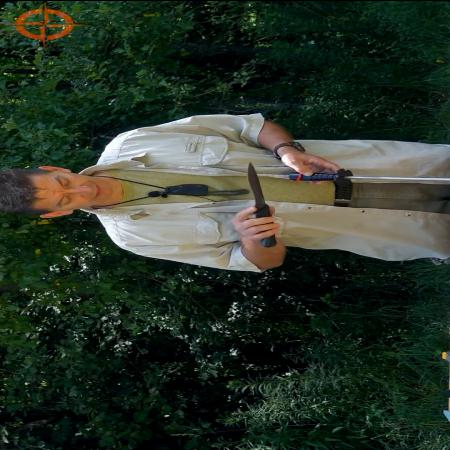long weapon: (227, 159, 279, 248)
